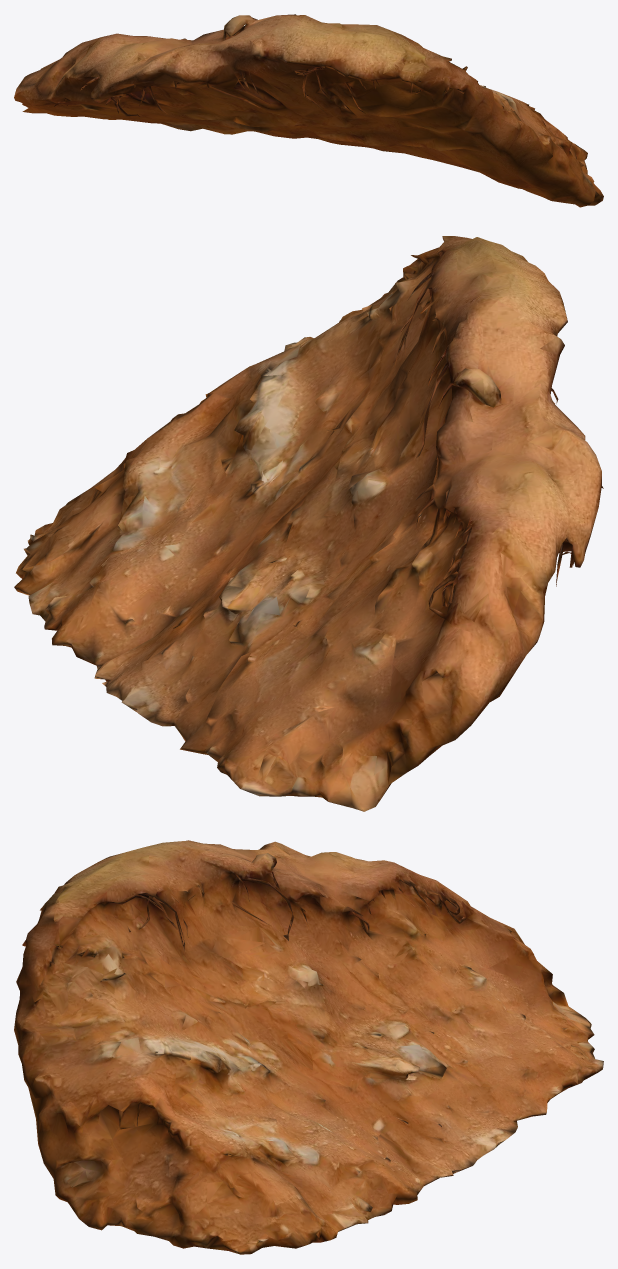
File: soil-hill.glb
3 renders of one model, top to bottom at view 1: azimuth 30°, elevation 25°; view 2: azimuth 150°, elevation 25°; view 3: azimuth 270°, elevation 25°, orthographic. The views are drawn at different scales.
Parts seen in each view (by area): view 1: Landscape asset / soil-hill; view 2: Landscape asset / soil-hill; view 3: Landscape asset / soil-hill.
Boxes of the visible parts, x1,y1,x2,y2 form: Landscape asset / soil-hill: (14,14,603,207); Landscape asset / soil-hill: (14,236,603,811); Landscape asset / soil-hill: (14,840,603,1254).
Bounding box in the file's own units: 0.9568 × 0.4679 × 1.
Materials: 1 (1 with a texture image).
